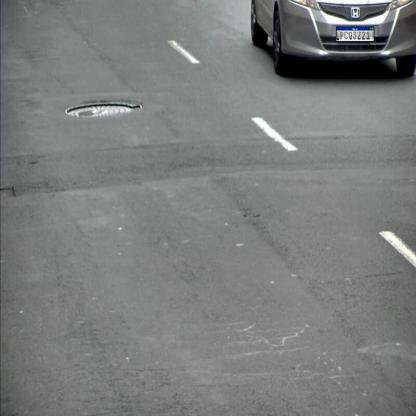PlacaM: (336, 26, 374, 42)
